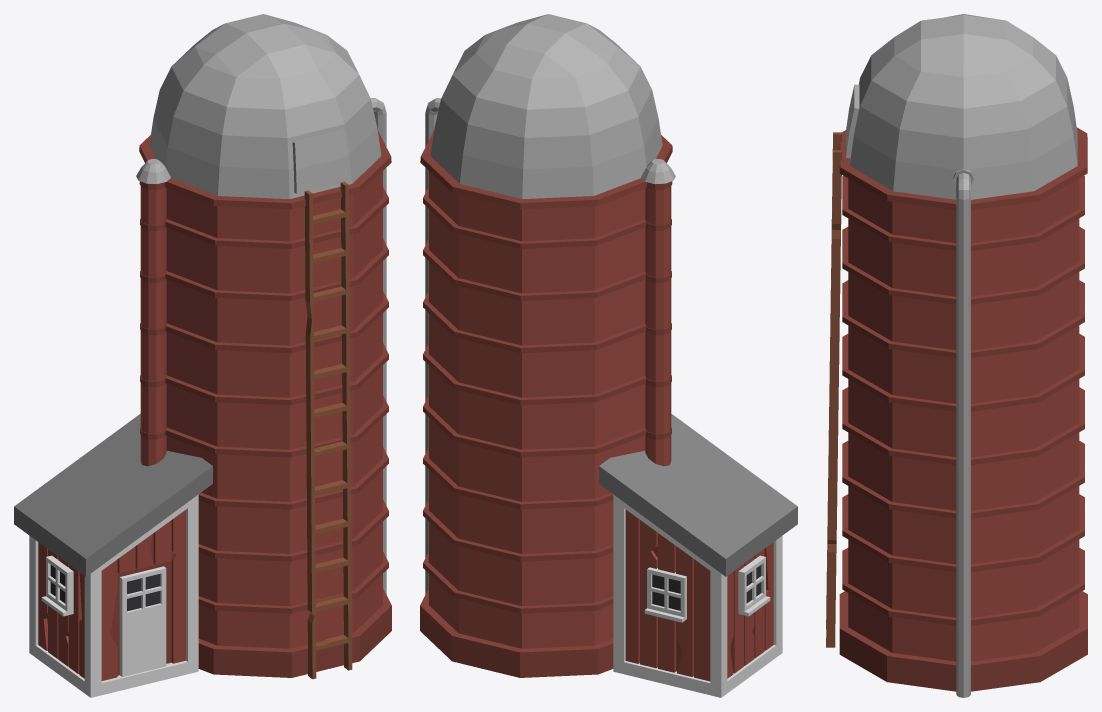
Rendered from silohus.glb.
3 views of the same model, side by side, from view 1: azimuth 30°, elevation 25°; view 2: azimuth 150°, elevation 25°; view 3: azimuth 270°, elevation 25° (orthographic). The views are drawn at different scales.
Visible parts, largest first — view 1: Silo_House; view 2: Silo_House; view 3: Silo_House.
Part boxes in pixels (box(x1,y1,x2,y2)): Silo_House: box(14, 14, 391, 697); Silo_House: box(420, 14, 797, 697); Silo_House: box(826, 14, 1087, 697).
Bounding box in the file's own units: 5.34 × 9.07 × 3.51.
